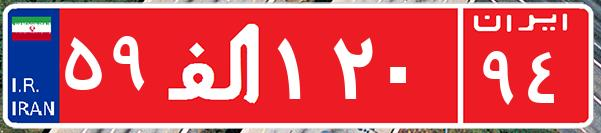0: (385, 28, 445, 110)
1: (273, 28, 330, 110)
2: (330, 28, 385, 110)
4: (525, 38, 570, 115)
5: (57, 26, 110, 107)
9: (475, 38, 525, 113), (110, 28, 158, 105)
الف: (158, 15, 273, 115)
